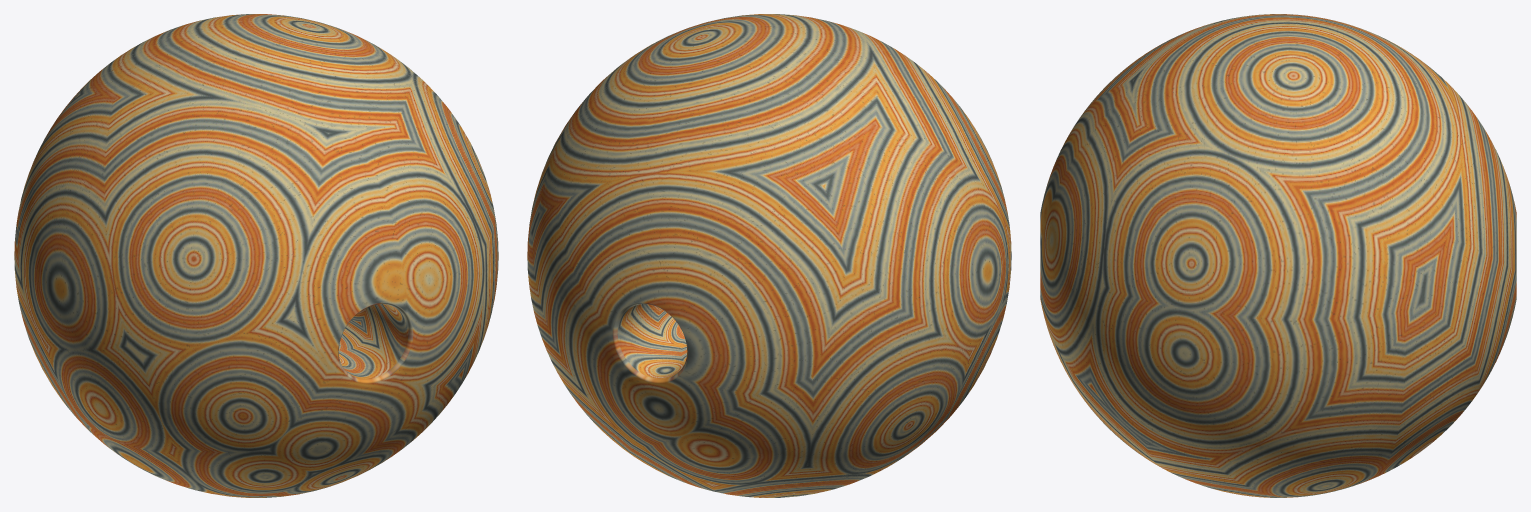
The model's file is crazy-lace-agate-6mm.glb.
3 renders of one model, left to right at view 1: azimuth 30°, elevation 25°; view 2: azimuth 150°, elevation 25°; view 3: azimuth 270°, elevation 25°, orthographic.
Parts seen in each view (by area): view 1: crazy-lace-agate.001; view 2: crazy-lace-agate.001; view 3: crazy-lace-agate.001.
Part boxes in pixels (bbox=[...]): crazy-lace-agate.001: bbox=[14, 14, 498, 497]; crazy-lace-agate.001: bbox=[527, 14, 1011, 497]; crazy-lace-agate.001: bbox=[1040, 14, 1516, 497].
Bounding box in the file's own units: 0.006 × 0.006 × 0.0059.
Materials: 1 (1 with a texture image).
